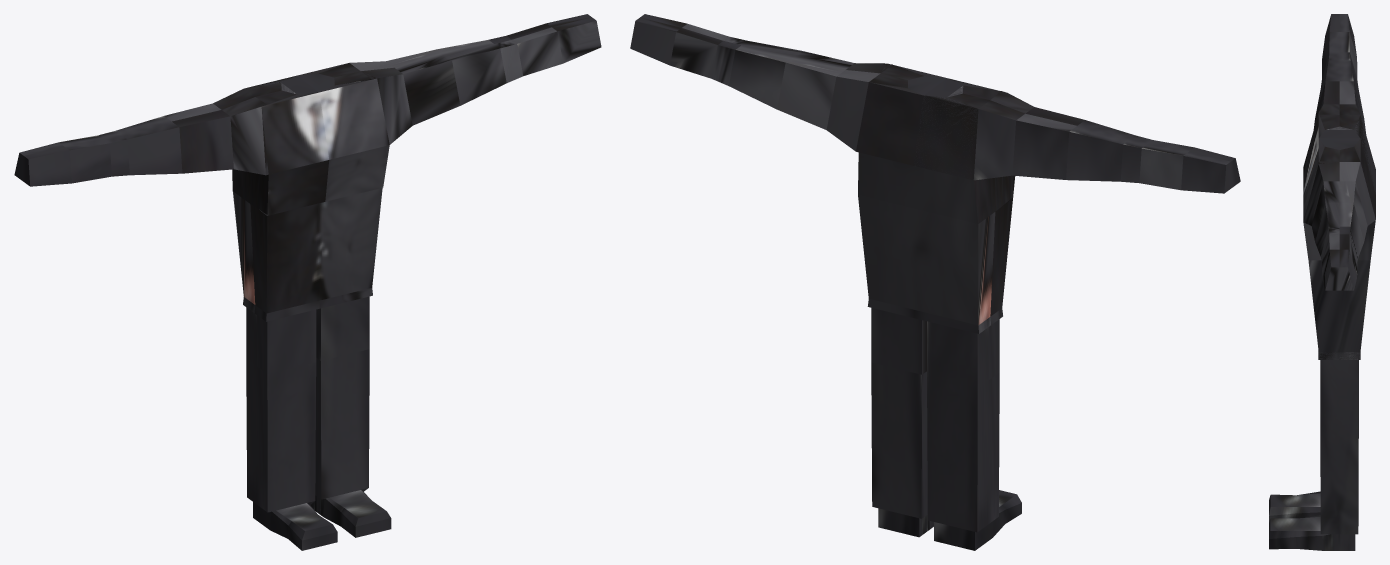
File: DEMO.fbx
3 views of the same model, side by side, from view 1: azimuth 30°, elevation 25°; view 2: azimuth 150°, elevation 25°; view 3: azimuth 270°, elevation 25° (orthographic). The views are drawn at different scales.
Visible parts, largest first — view 1: Cube.001; view 2: Cube.001; view 3: Cube.001.
Boxes of the visible parts, x1=… form: Cube.001: x1=14, y1=14, x2=601, y2=550; Cube.001: x1=630, y1=14, x2=1240, y2=550; Cube.001: x1=1269, y1=14, x2=1375, y2=550.
Size of the model in its own units: 1083 by 778 by 192.
